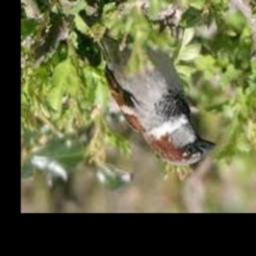Sparrow: (96, 34, 216, 166)
